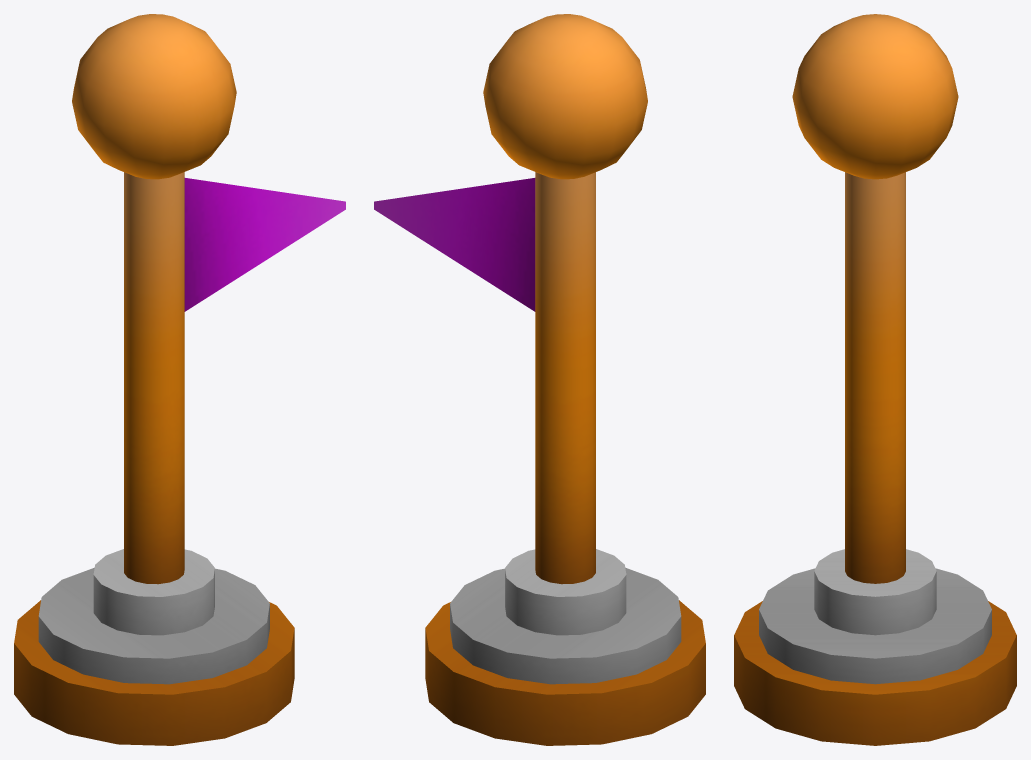
File: checkpoint.glb
3 renders of one model, left to right at view 1: azimuth 30°, elevation 25°; view 2: azimuth 150°, elevation 25°; view 3: azimuth 270°, elevation 25°, orthographic.
Parts seen in each view (by area): view 1: checkpoint; view 2: checkpoint; view 3: checkpoint.
Part boxes in pixels (box(x1,y1,x2,y2)): checkpoint: box(14, 14, 345, 745); checkpoint: box(374, 14, 705, 745); checkpoint: box(734, 14, 1016, 745).
Bounding box in the file's own units: 0.8777 × 1.78 × 0.6846.
Materials: 1 (1 with a texture image).
